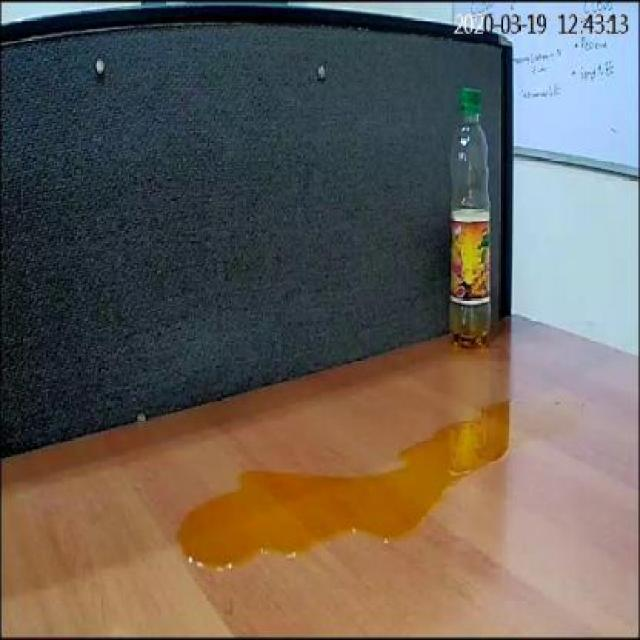spill: (178, 388, 567, 572)
